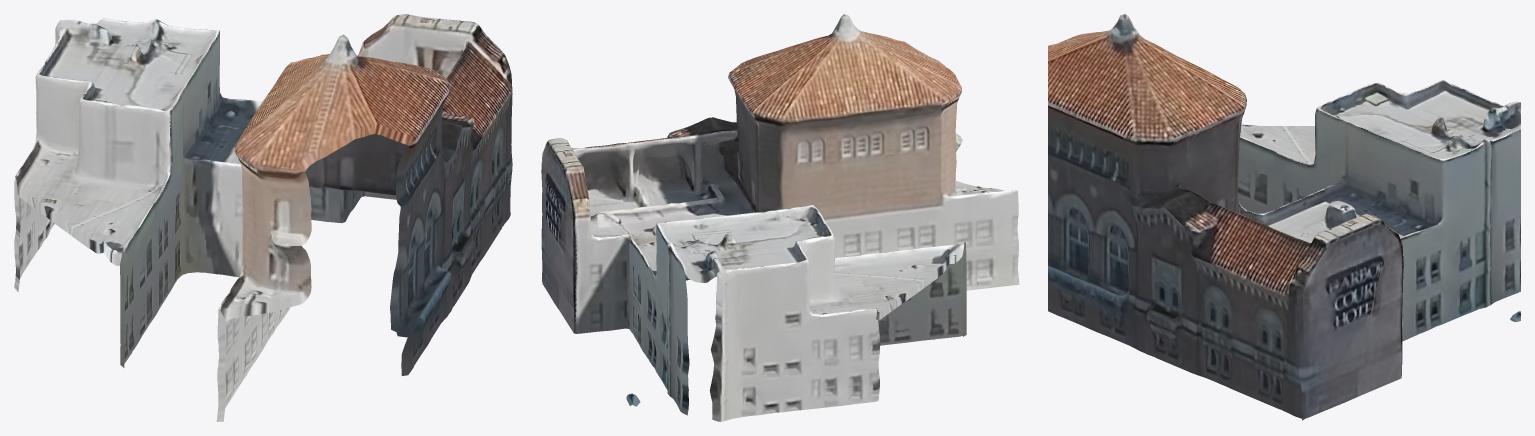
File: z20-167795-405230-h1-yup-uvflip-v3-world.glb
3 views of the same model, side by side, from view 1: azimuth 30°, elevation 25°; view 2: azimuth 150°, elevation 25°; view 3: azimuth 270°, elevation 25° (orthographic). The views are drawn at different scales.
Size of the model in its own units: 30.2 by 20.8 by 30.32.
Materials: 1 (1 with a texture image).
